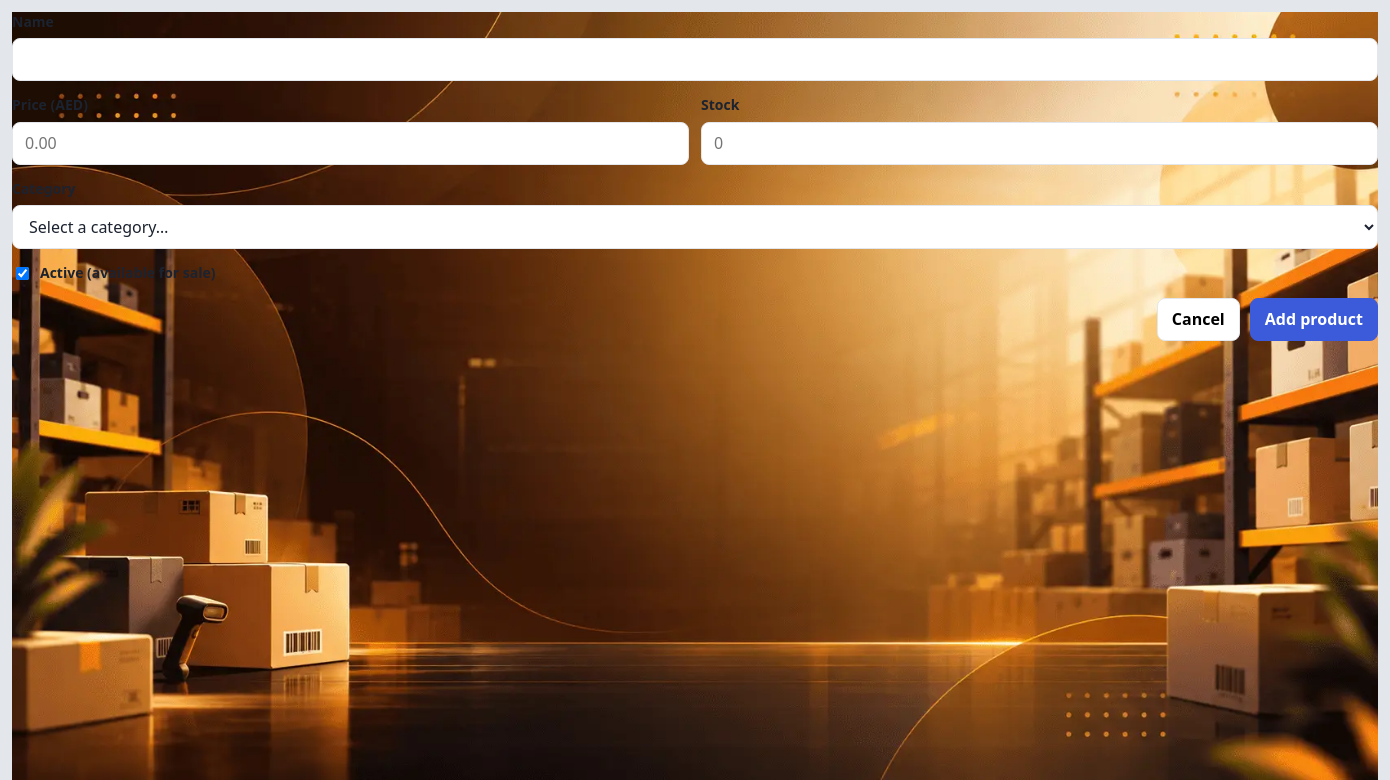
Test: ProductForm › rejects price <= 0 and negative stock with specific messages
Type "Thing" into the field labelled "Name" at (695, 60), box [12,38,1378,82]
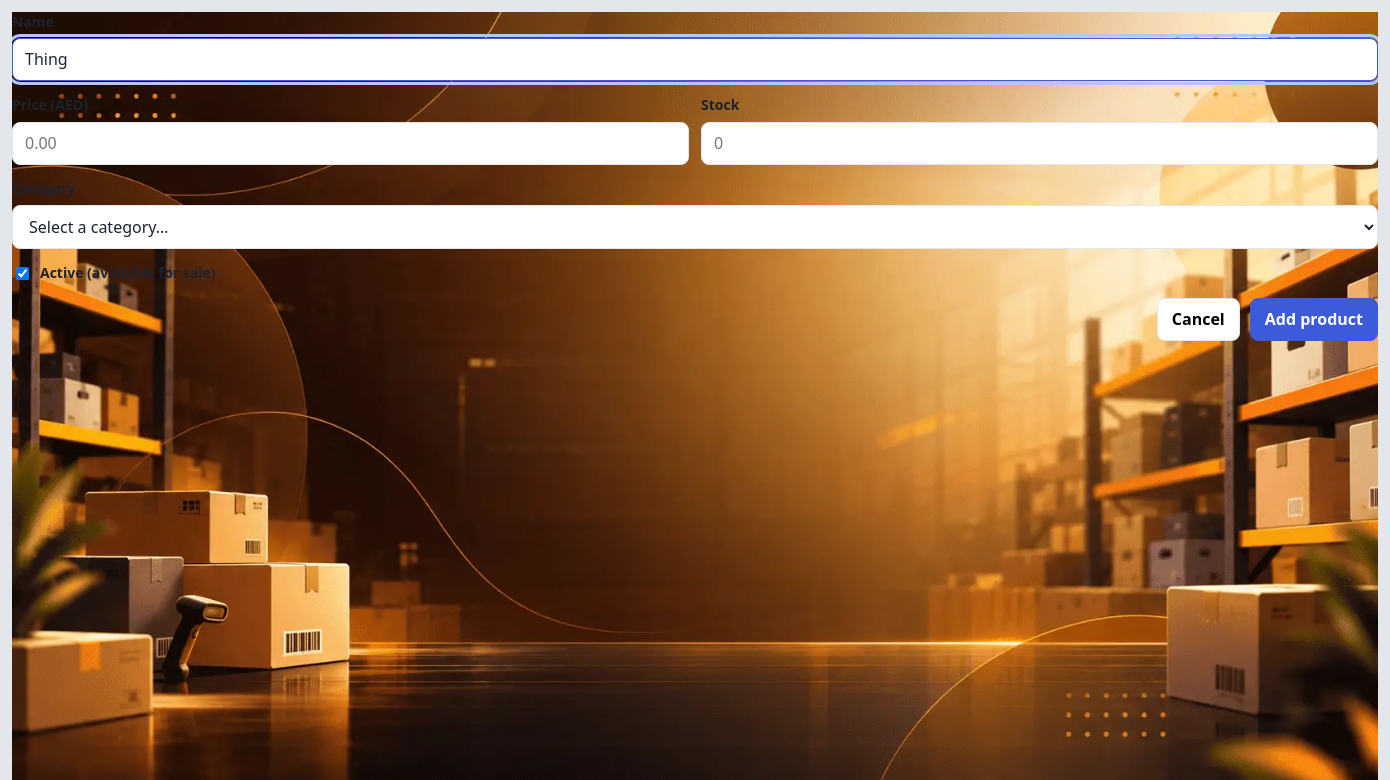
Type "0" into the field labelled "Price (AED)" at (350, 143), box [12,122,689,165]
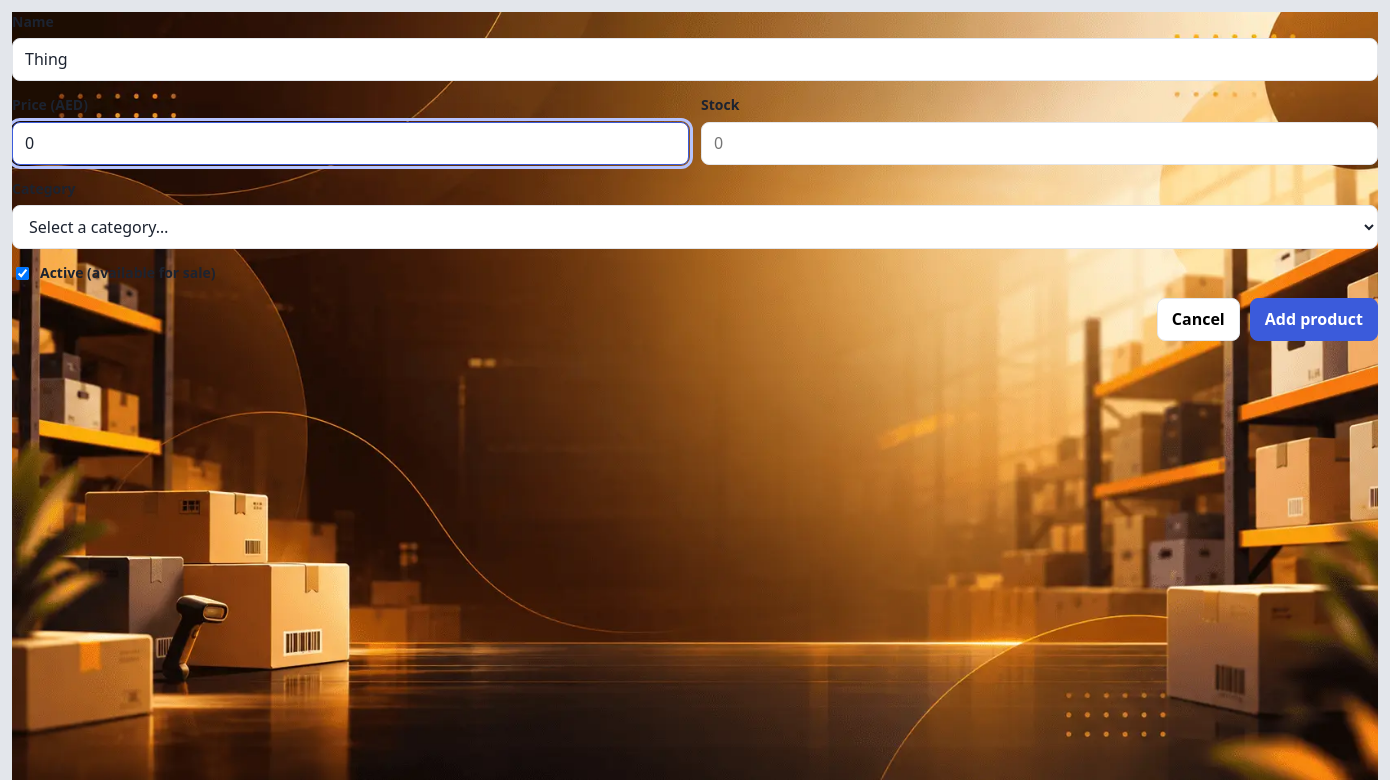
Type "-2" into the field labelled "Stock" at (1040, 143), box [701,122,1378,165]
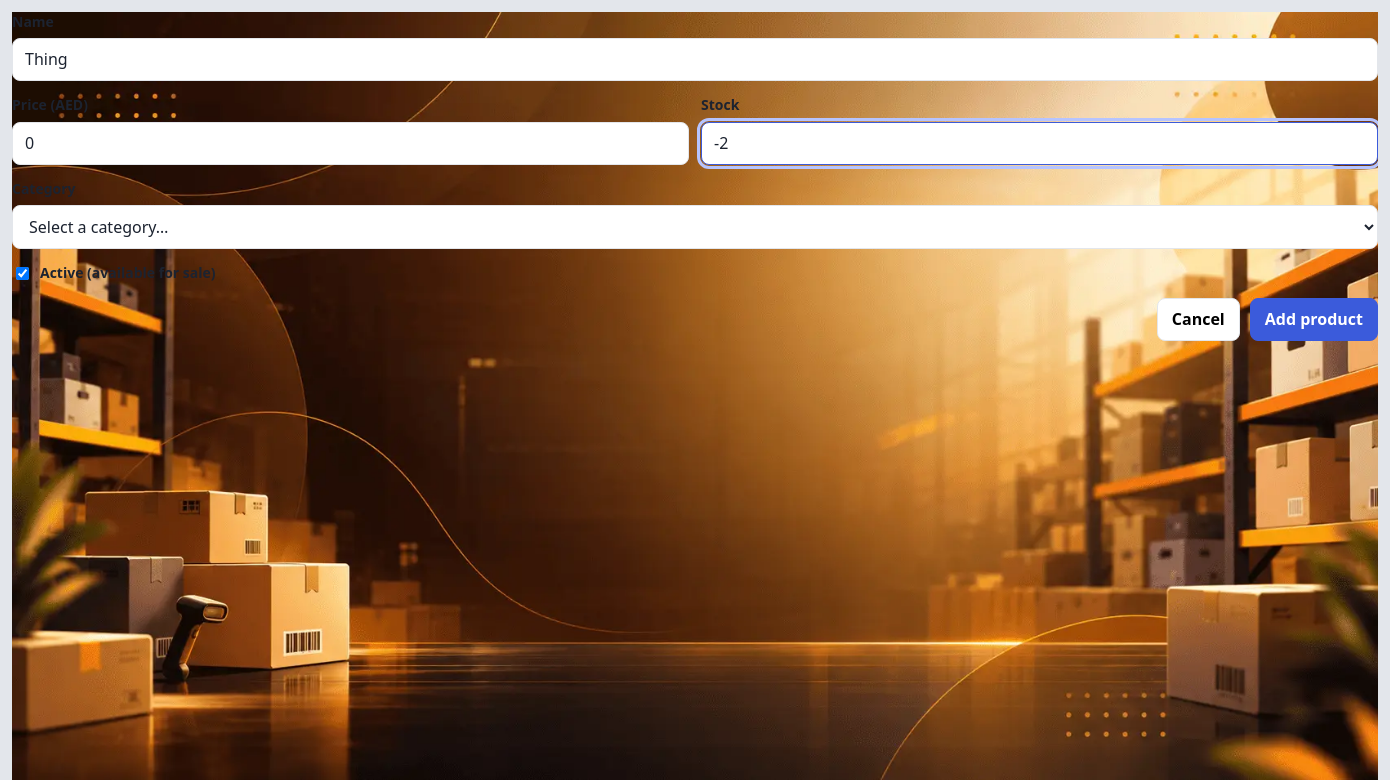
Select "Electronics" in the dropdown labelled "Category" at (695, 227), box [12,205,1378,249]
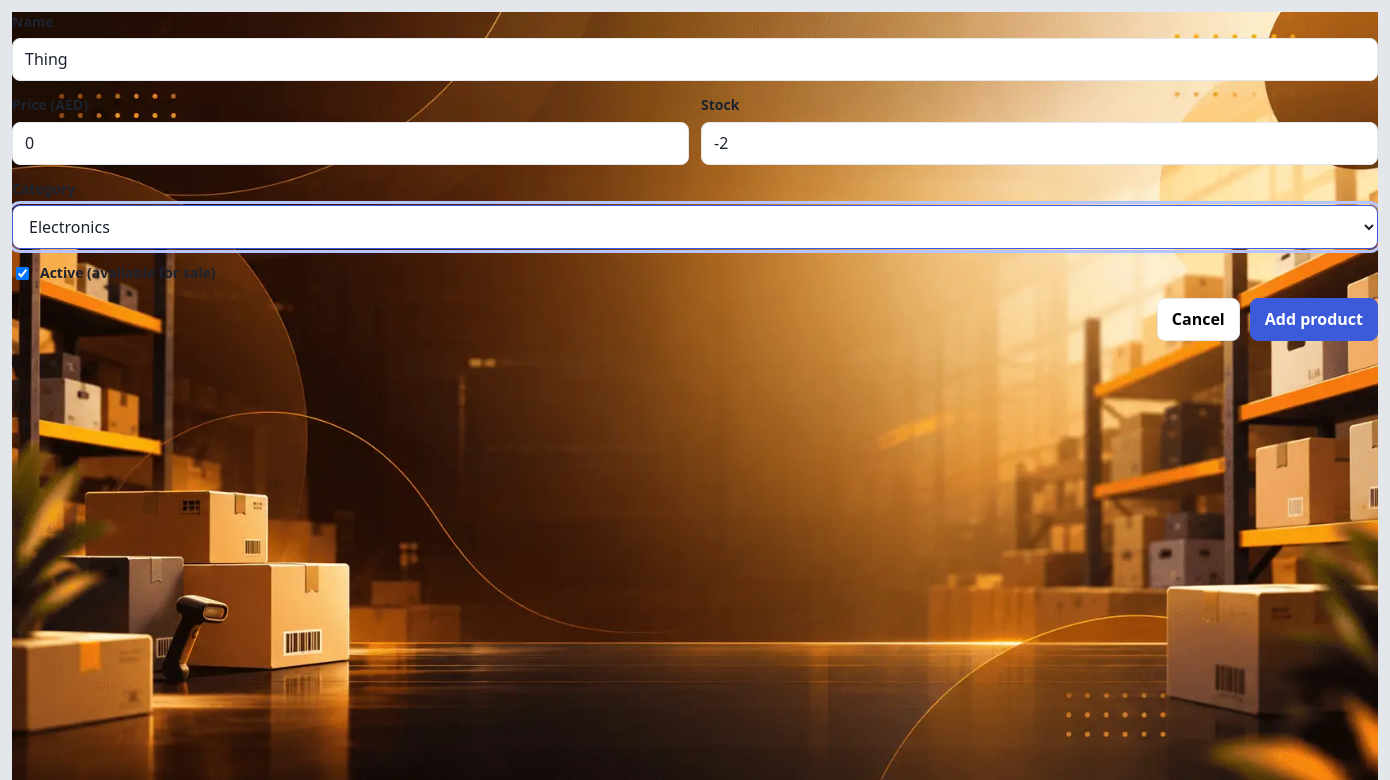
Click the button "Add product" at (1314, 319), box [1250,298,1378,341]
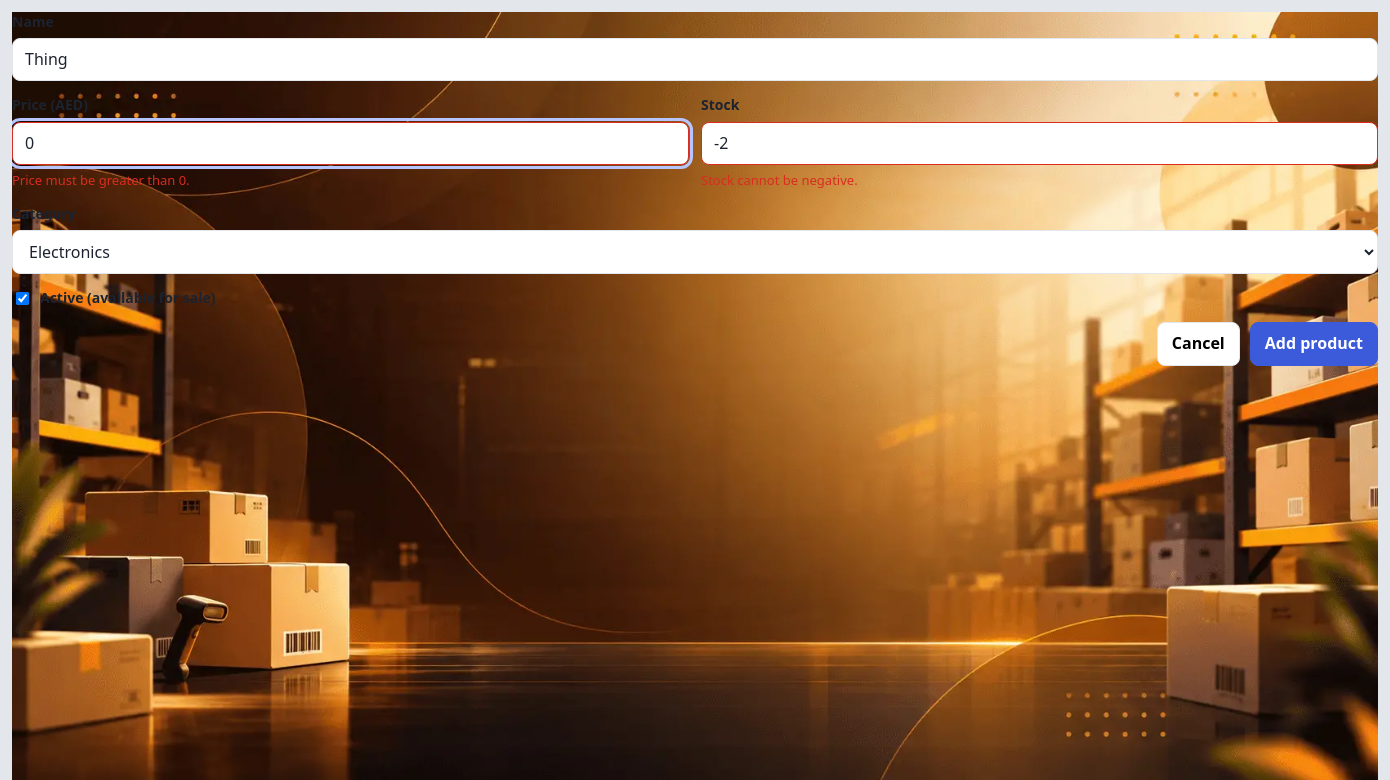
Expected: the text "Price must be greater than 0." is shown, [12,171,190,189]
Expected: the text "Stock cannot be negative." is shown, [701,171,858,189]
